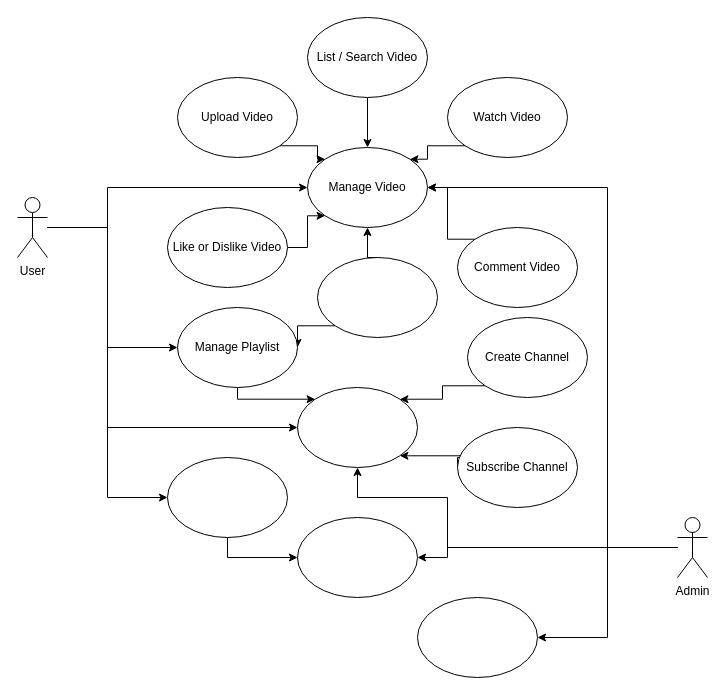
Image size: 727x695. Some labels were removed from this diagram. Each missing label, with the box of its shape:
Manage Category: (416, 596, 538, 678)
Manage Channel: (296, 386, 418, 468)
Manage User: (296, 516, 418, 598)
Save Video to Playlist: (316, 256, 438, 338)
Update Profile: (166, 456, 288, 538)
